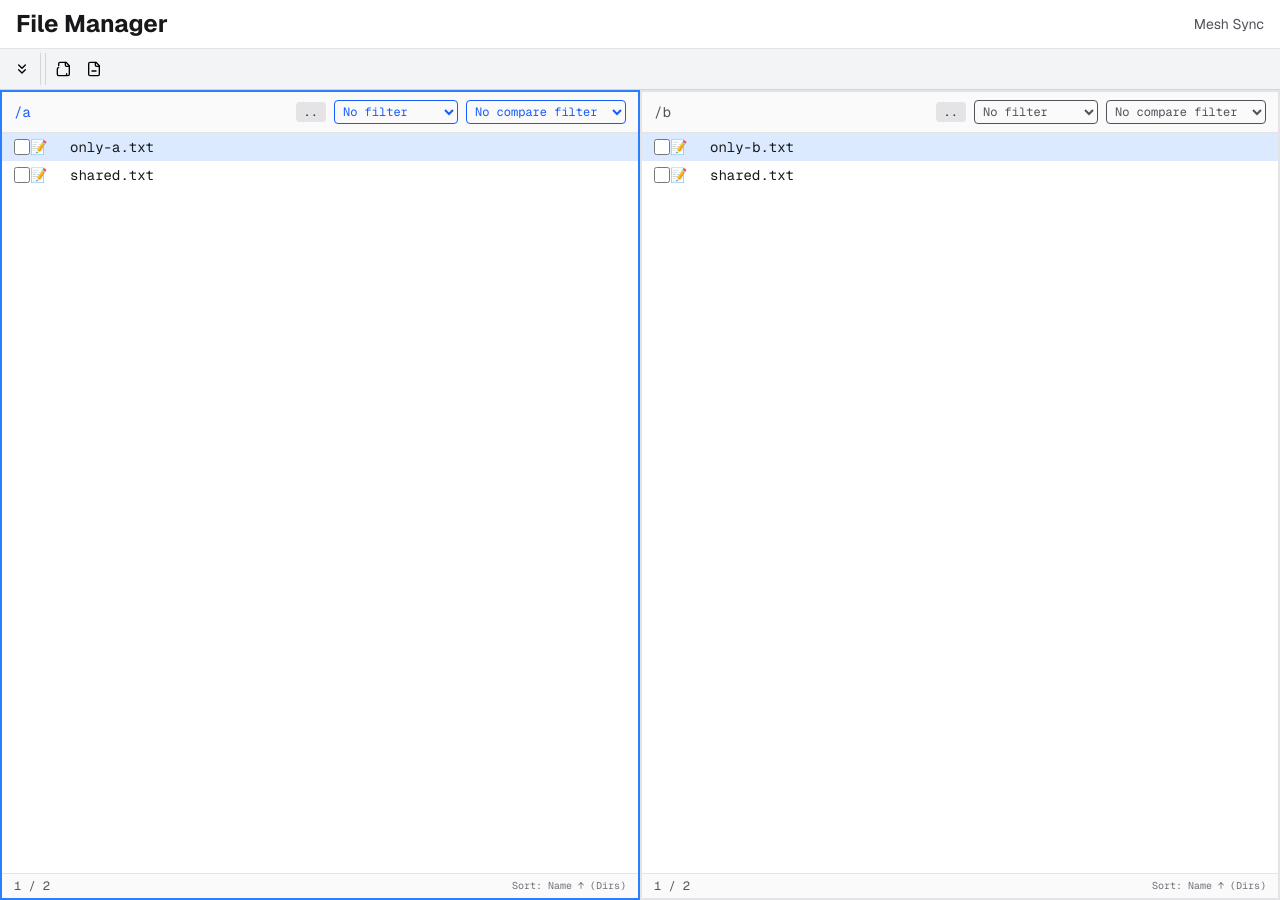
Test: [REQ-CROSS_PANE_VISIBILITY] WorkspaceView cross-pane visibility › include sharedAll shows only shared rows in both panes
Click the button with test id "toolbar-view.compareFilter.sharedAll": (64, 69) [50,57,78,81]
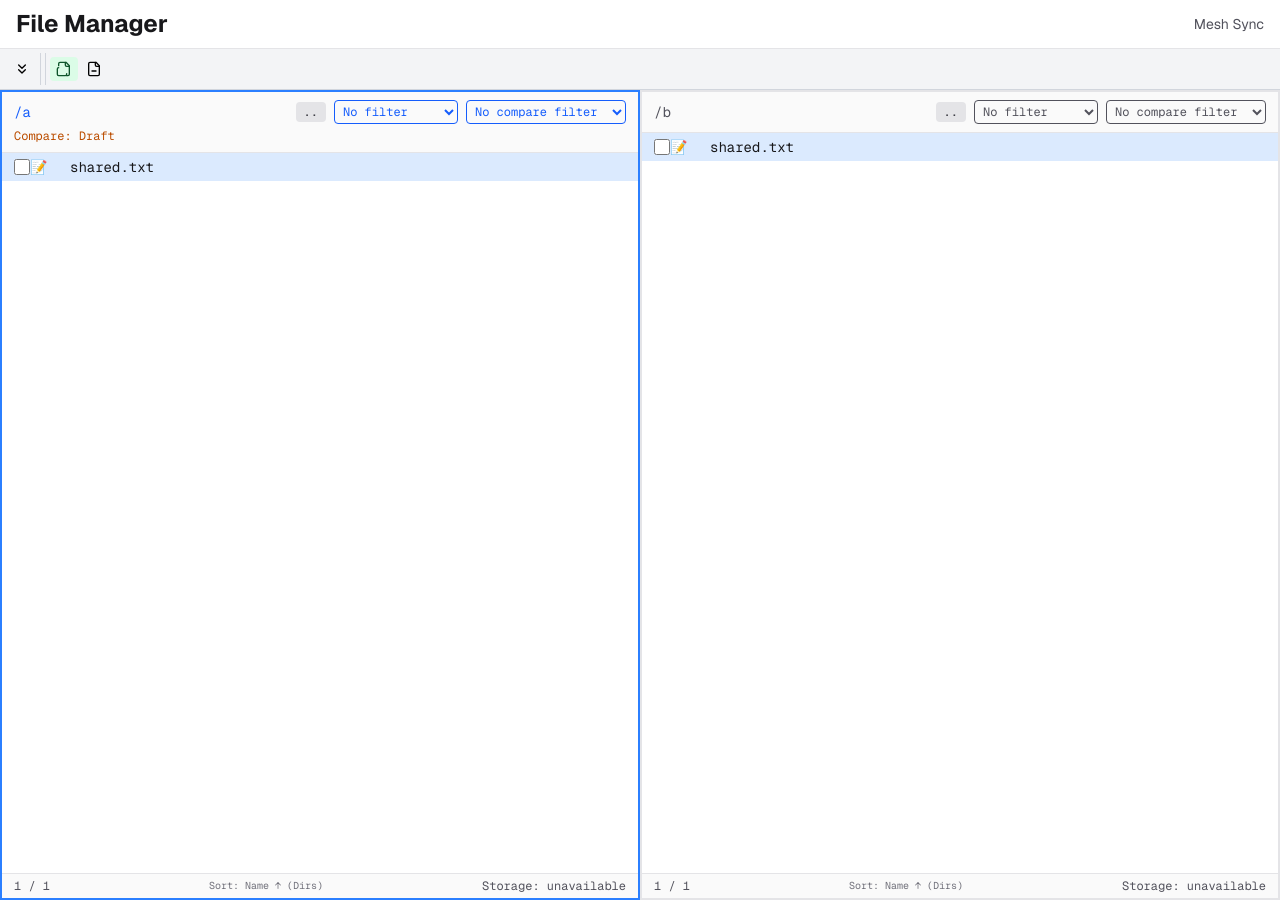
Expected: the text "shared.txt" below "Compare:" is shown, [70,158,154,176]
Now the text "only-a.txt" is gone
Now the text "only-b.txt" is gone
